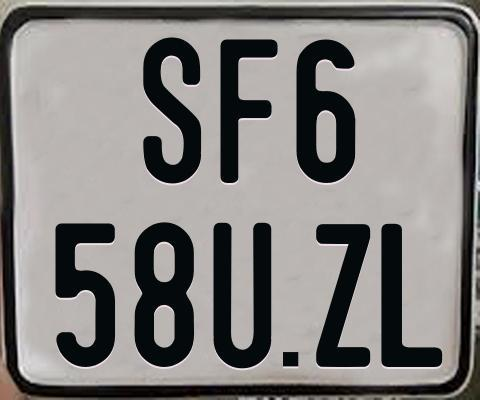5: (54, 221, 116, 368)
6: (295, 38, 360, 183)
8: (134, 221, 197, 369)
F: (220, 36, 282, 185)
L: (381, 223, 444, 366)
S: (143, 35, 201, 181)
U: (212, 223, 272, 370)
Z: (315, 221, 370, 368)
